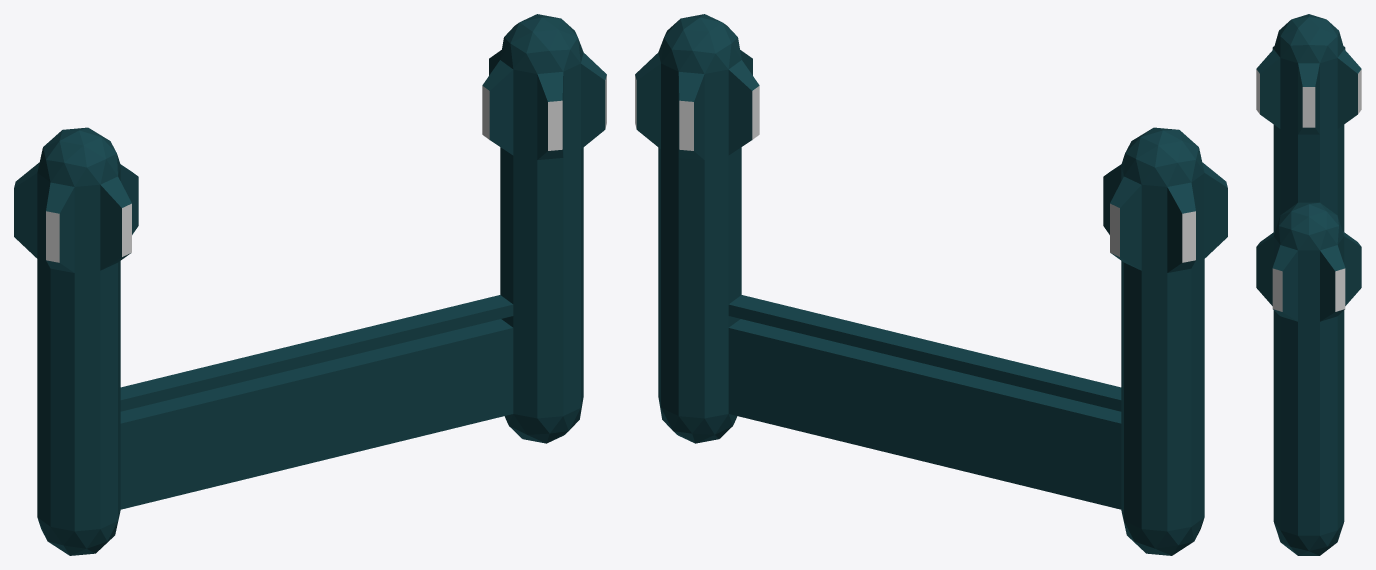
The model's file is 01_Prop_Fence_01.fbx.
The picture shows the model from 3 angles, left to right: view 1: azimuth 30°, elevation 25°; view 2: azimuth 150°, elevation 25°; view 3: azimuth 270°, elevation 25°; orthographic projection. The views are drawn at different scales.
Visible parts, largest first — view 1: Icosphere.001; view 2: Icosphere.001; view 3: Icosphere.001.
Boxes of the visible parts, x1,y1,x2,y2 form: Icosphere.001: (14, 14, 606, 555); Icosphere.001: (635, 14, 1227, 555); Icosphere.001: (1256, 14, 1361, 555).
Size of the model in its own units: 1518 by 1078 by 299.
